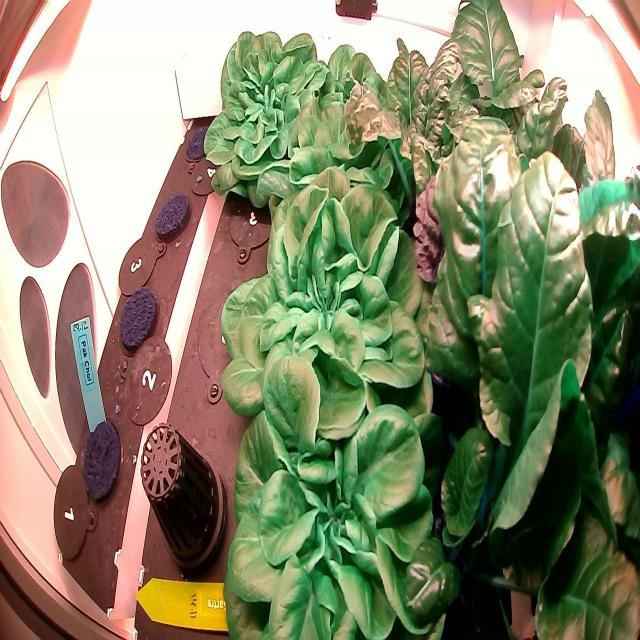Ready: (222, 337, 454, 640), (217, 166, 432, 446), (262, 36, 410, 218), (198, 24, 338, 206)
empty_pod: (139, 422, 229, 582), (186, 278, 270, 422), (221, 166, 282, 274)
pod: (77, 417, 127, 512), (114, 281, 162, 358), (151, 184, 193, 253), (179, 112, 219, 172)
